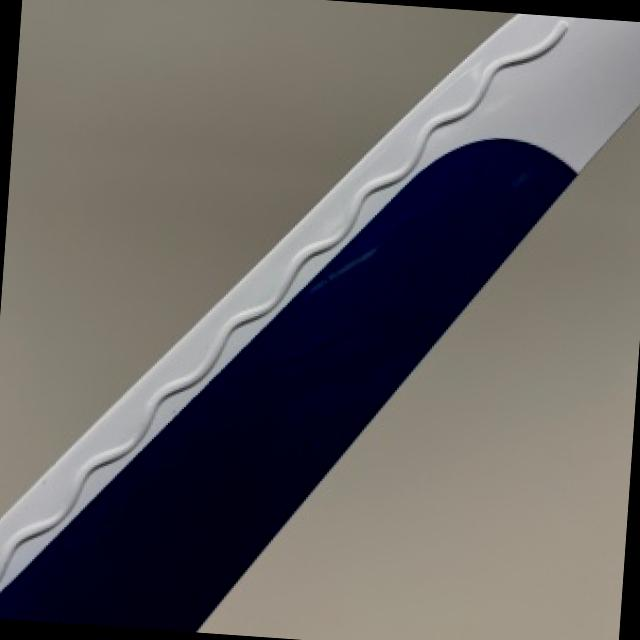healthy: (0, 13, 640, 630)
